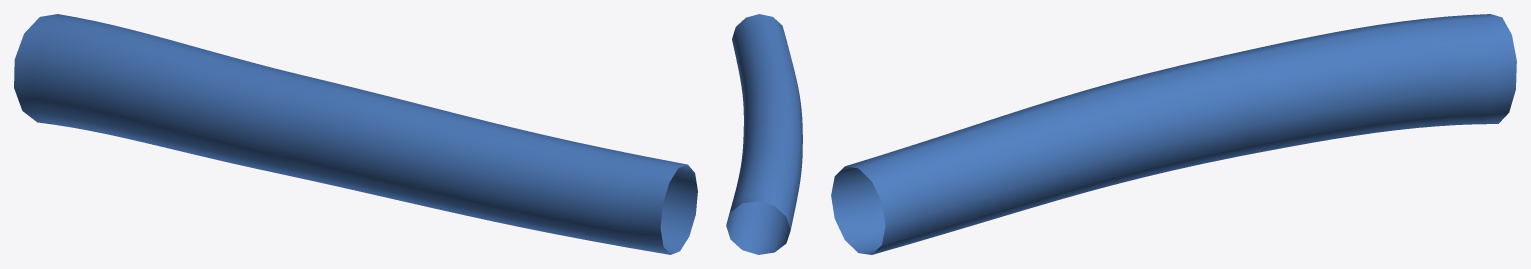
3 renders of one model, left to right at view 1: azimuth 30°, elevation 25°; view 2: azimuth 150°, elevation 25°; view 3: azimuth 270°, elevation 25°, orthographic. The views are drawn at different scales.
Visible parts, largest first — view 1: 左侧下颌后静脉; view 2: 左侧下颌后静脉; view 3: 左侧下颌后静脉.
Part boxes in pixels (box(x1,y1,x2,y2)): 左侧下颌后静脉: box(14, 14, 697, 254); 左侧下颌后静脉: box(726, 14, 802, 254); 左侧下颌后静脉: box(831, 14, 1516, 254).
Size of the model in its own units: 0.0145 by 0.00391 by 0.0218.
